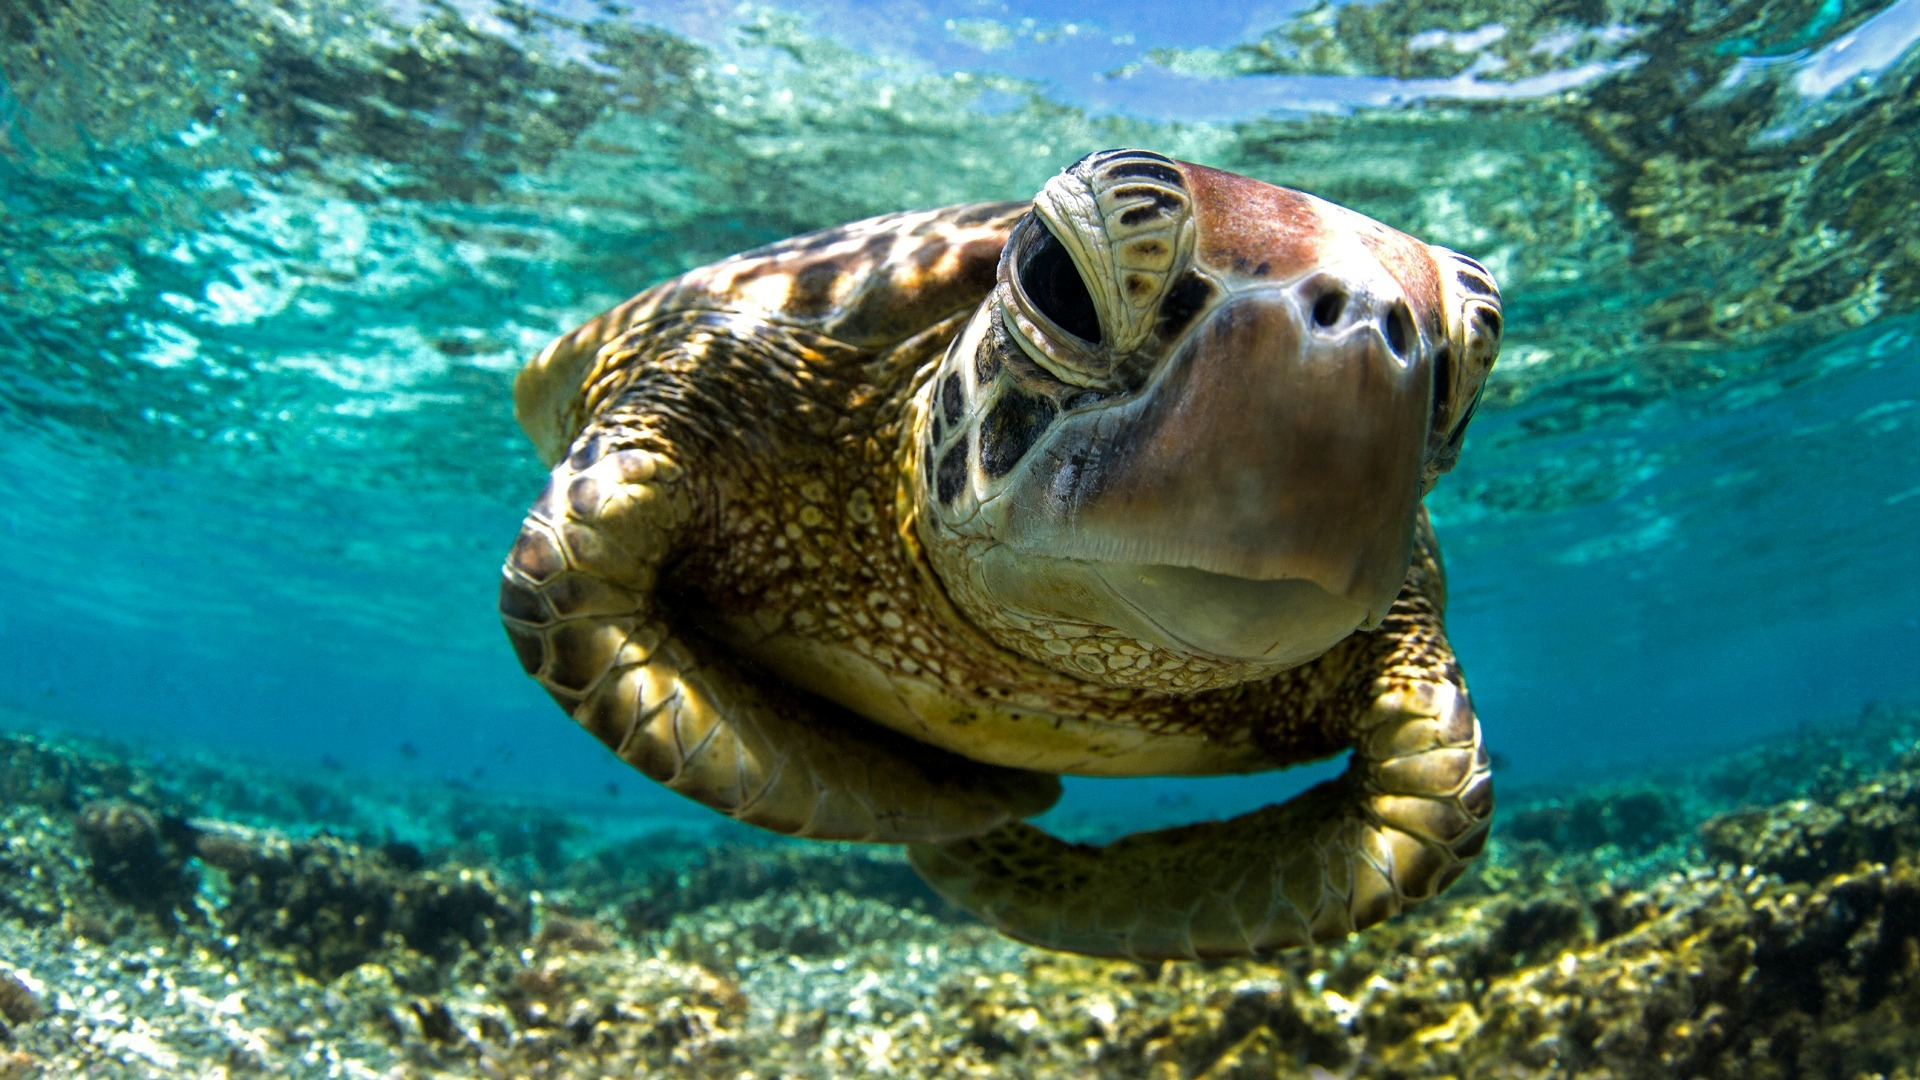eye: (994, 154, 1185, 382), (1415, 227, 1516, 476)
mouth: (930, 496, 1418, 694)
